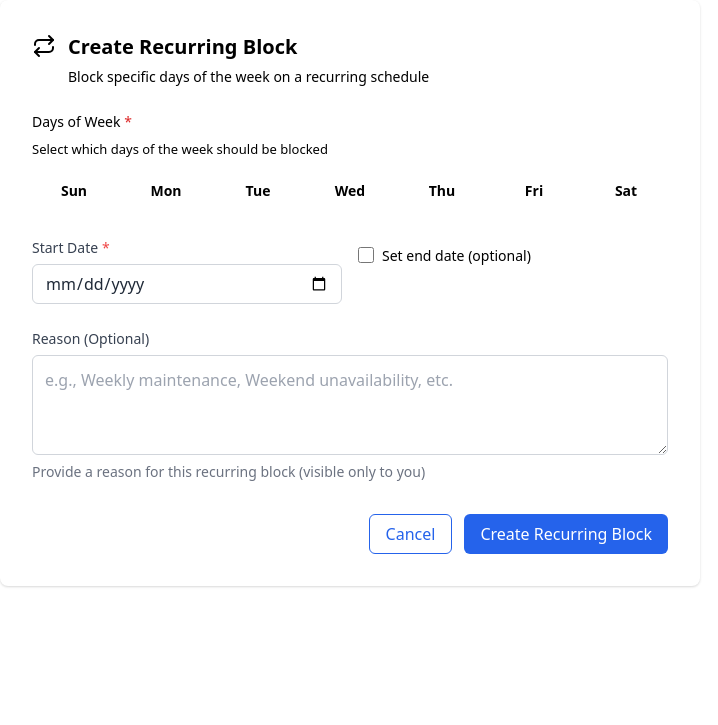
it: RecurringBlockForm › Create Mode › shows preview of recurring instances
This screenshot has width=718, height=725.
Click the checkbox labelled "Mon".
click(166, 190)  # box [150,180,182,200]
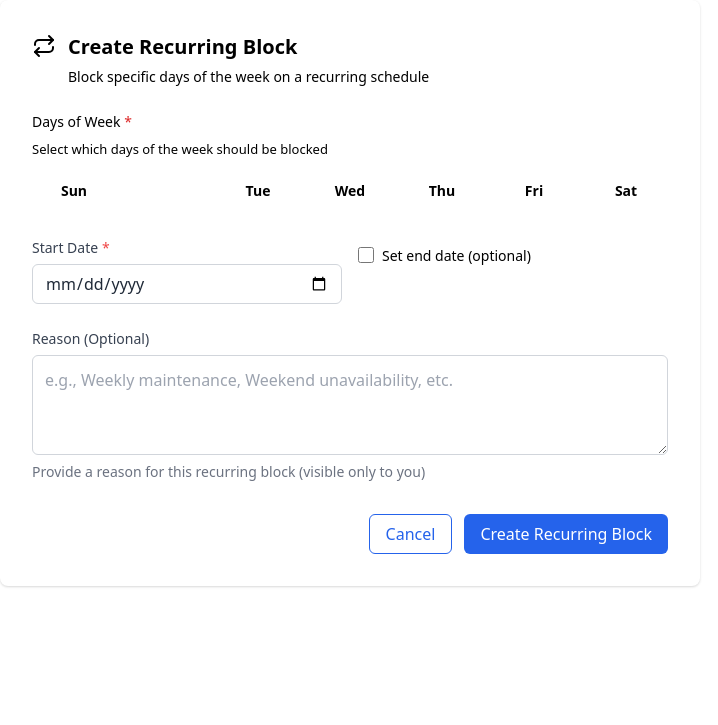
Note: Set start date
Type "2024-01-01" into the date field labelled "Start Date *".
click(187, 284); type("2024-01-01")  # box [32,264,342,304]
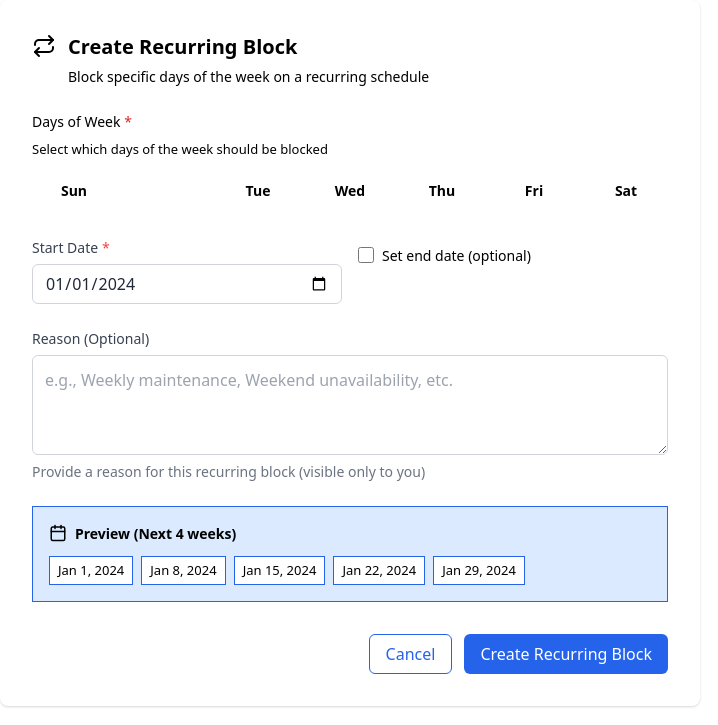
Expected: the heading "Preview (Next 4 weeks)" is shown, [75,522,236,544]
